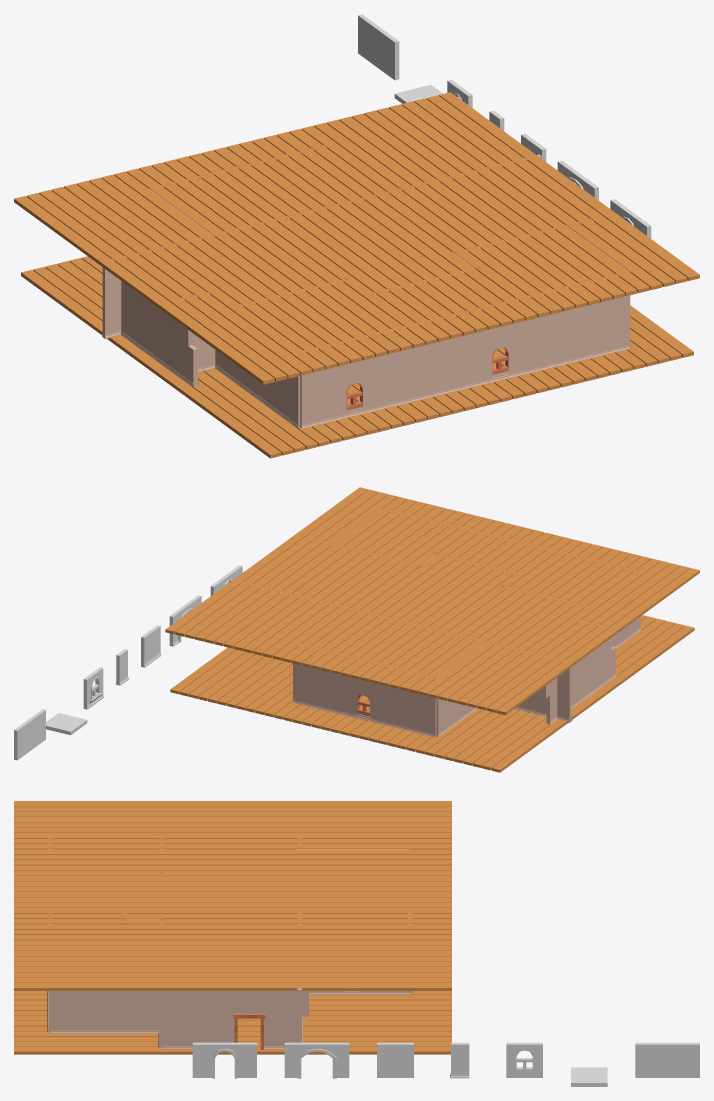
Rendered from housewithinteriour.fbx.
3 renders of one model, top to bottom at view 1: azimuth 30°, elevation 25°; view 2: azimuth 150°, elevation 25°; view 3: azimuth 270°, elevation 25°, orthographic. The views are drawn at different scales.
Parts seen in each view (by area): view 1: Cube.143, Cube.032, Cube.066, Cube.018, Cube.017, Cube.064, Cube.014, Cube.015, Cube.048, Cube.016, Cube.046, Cube.076 (+6 smaller); view 2: Cube.143, Cube.032, Cube.027, Cube.059, Cube.029, Cube.023, Cube.028, Cube, Cube.001, Cube.031, Cube.055, Cube.076 (+5 smaller); view 3: Cube.143, Cube.032, Cube.011, Cube.007, Cube.076, Cube.001, Cube.013, Cube.062, Cube.121, Cube, Cube.063, Cube.003 (+8 smaller).
Boxes of the visible parts, x1,y1,x2,y2 form: Cube.143: (14, 92, 699, 384); Cube.032: (21, 256, 693, 458); Cube.066: (300, 382, 338, 428); Cube.018: (411, 356, 447, 401); Cube.017: (447, 347, 483, 392); Cube.064: (374, 365, 411, 410); Cube.014: (556, 320, 593, 366); Cube.015: (520, 329, 556, 375); Cube.048: (593, 311, 629, 357); Cube.016: (483, 338, 520, 383); Cube.046: (338, 374, 374, 419); Cube.076: (374, 26, 399, 80); Cube.143: (165, 487, 699, 714); Cube.032: (170, 615, 694, 772); Cube.027: (407, 701, 436, 737); Cube.059: (293, 674, 321, 709); Cube.029: (321, 680, 350, 716); Cube.023: (378, 694, 407, 730); Cube.028: (350, 687, 378, 723); Cube: (83, 667, 103, 709); Cube.001: (141, 625, 161, 667); Cube.031: (46, 713, 87, 735); Cube.055: (541, 688, 572, 722); Cube.076: (27, 709, 45, 750); Cube.143: (14, 801, 451, 990); Cube.032: (14, 991, 451, 1054); Cube.011: (192, 1042, 256, 1078); Cube.007: (284, 1042, 349, 1078); Cube.076: (635, 1042, 672, 1077); Cube.001: (377, 1042, 413, 1077); Cube.013: (87, 1001, 124, 1033); Cube.062: (50, 1001, 87, 1033); Cube.121: (161, 1016, 197, 1049); Cube: (506, 1042, 542, 1077); Cube.063: (124, 1001, 158, 1033); Cube.003: (264, 1016, 297, 1049).
Size of the model in its own units: 5556 by 831 by 7435.
